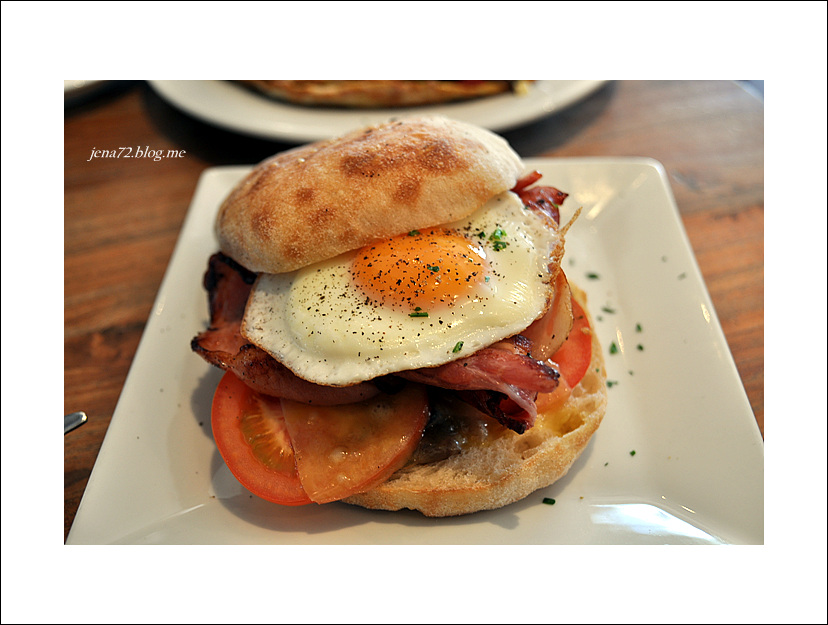fried egg: (264, 227, 543, 378)
slice of bread: (213, 115, 523, 273), (370, 375, 607, 522)
